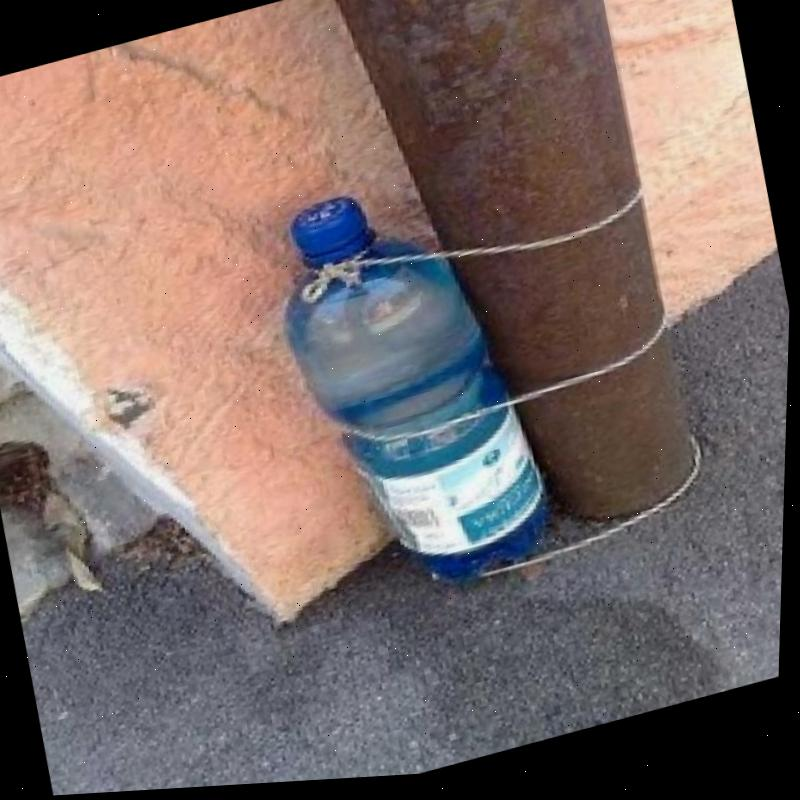botella: (253, 160, 575, 630)
